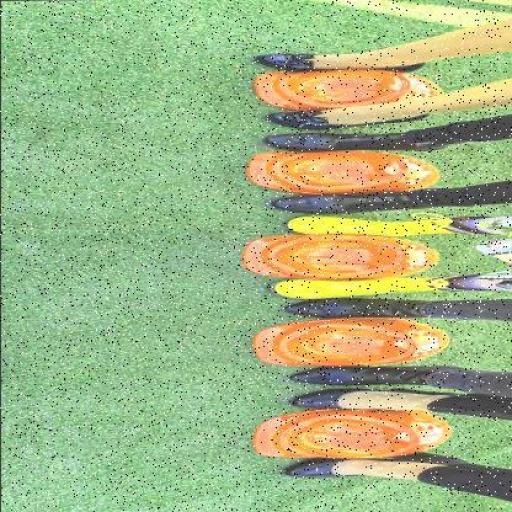safety_shoe: (256, 186, 466, 215), (263, 269, 458, 300), (257, 124, 457, 153), (280, 214, 466, 240), (295, 298, 437, 326), (283, 366, 448, 388)
